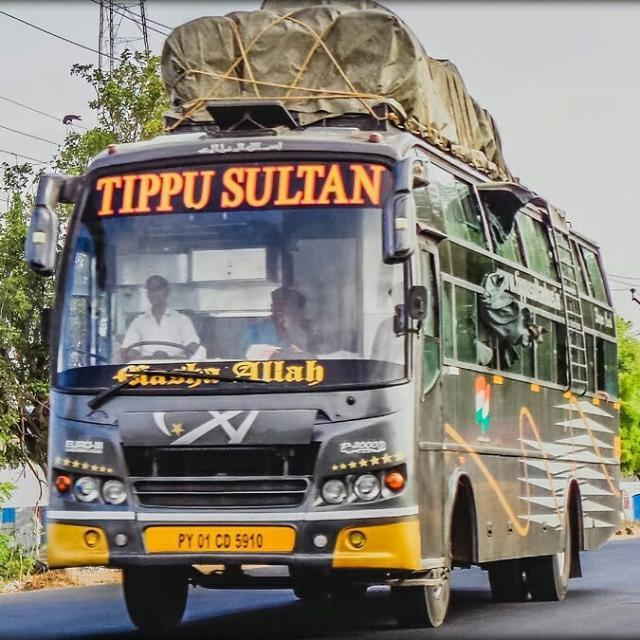Bus: (22, 95, 625, 630)
